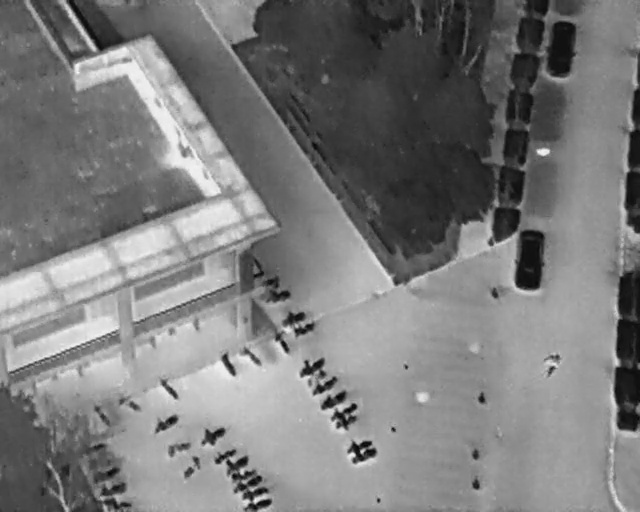Bicycle: (195, 419, 230, 451), (315, 385, 351, 415), (148, 407, 182, 437), (325, 397, 360, 426), (219, 449, 253, 478), (307, 373, 342, 400), (154, 373, 183, 405), (177, 452, 207, 482), (237, 343, 267, 373), (161, 433, 194, 460), (295, 352, 329, 378), (341, 431, 375, 457), (538, 349, 565, 381), (95, 476, 129, 501), (331, 409, 362, 435), (89, 400, 115, 431), (230, 473, 264, 496), (216, 349, 241, 380), (112, 393, 145, 416), (209, 443, 239, 468), (90, 463, 122, 486), (270, 327, 294, 357), (348, 445, 380, 467), (239, 482, 271, 504), (277, 305, 307, 328), (263, 286, 292, 307), (228, 465, 259, 484), (304, 367, 331, 388), (289, 320, 317, 339), (97, 496, 132, 510), (82, 440, 107, 458), (260, 274, 281, 291), (244, 498, 273, 510)
Car: (539, 15, 582, 82), (509, 225, 547, 294)
